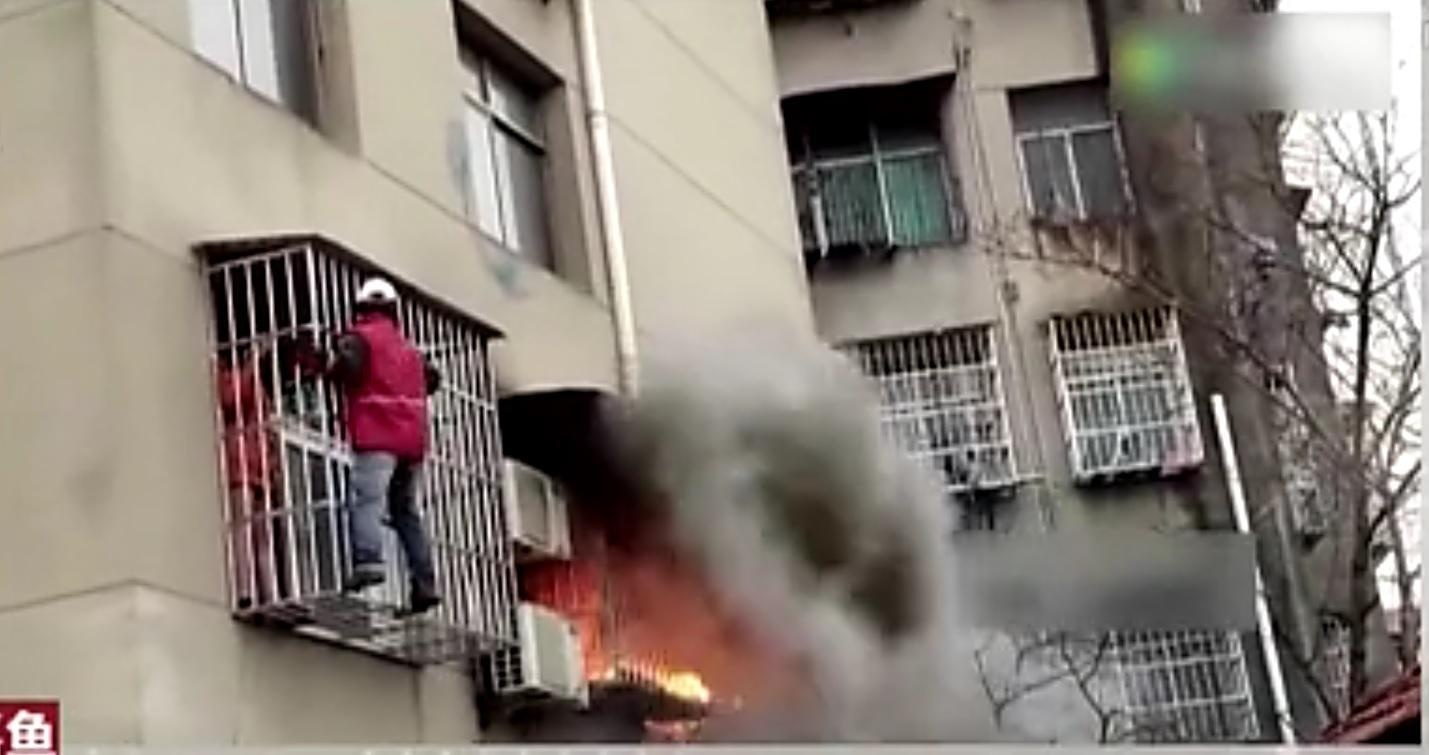fire: (567, 593, 715, 714)
